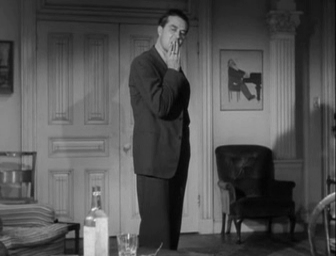face: (161, 19, 187, 52)
mls: (1, 1, 336, 256)
person: (128, 9, 191, 250)
